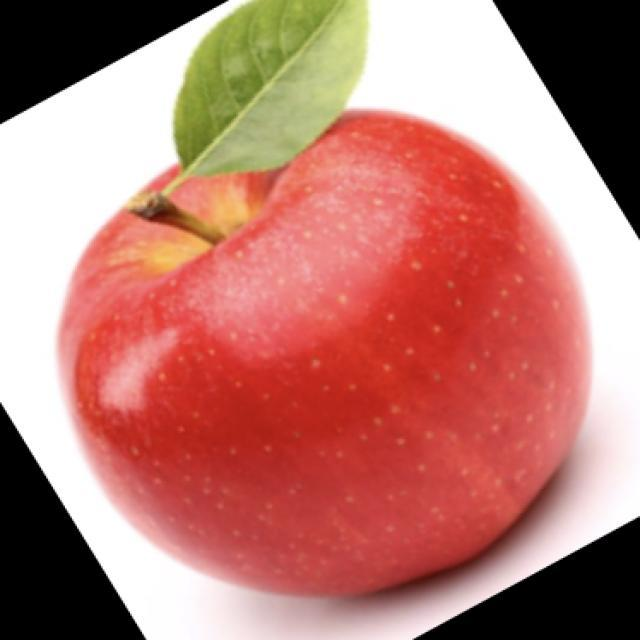Fresh Apple: (97, 142, 580, 572)
